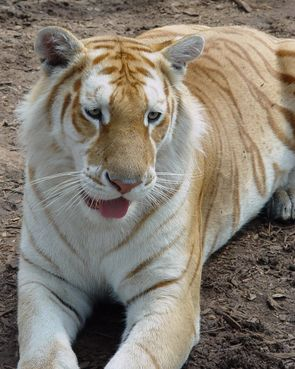Tiger: (20, 23, 282, 369)
